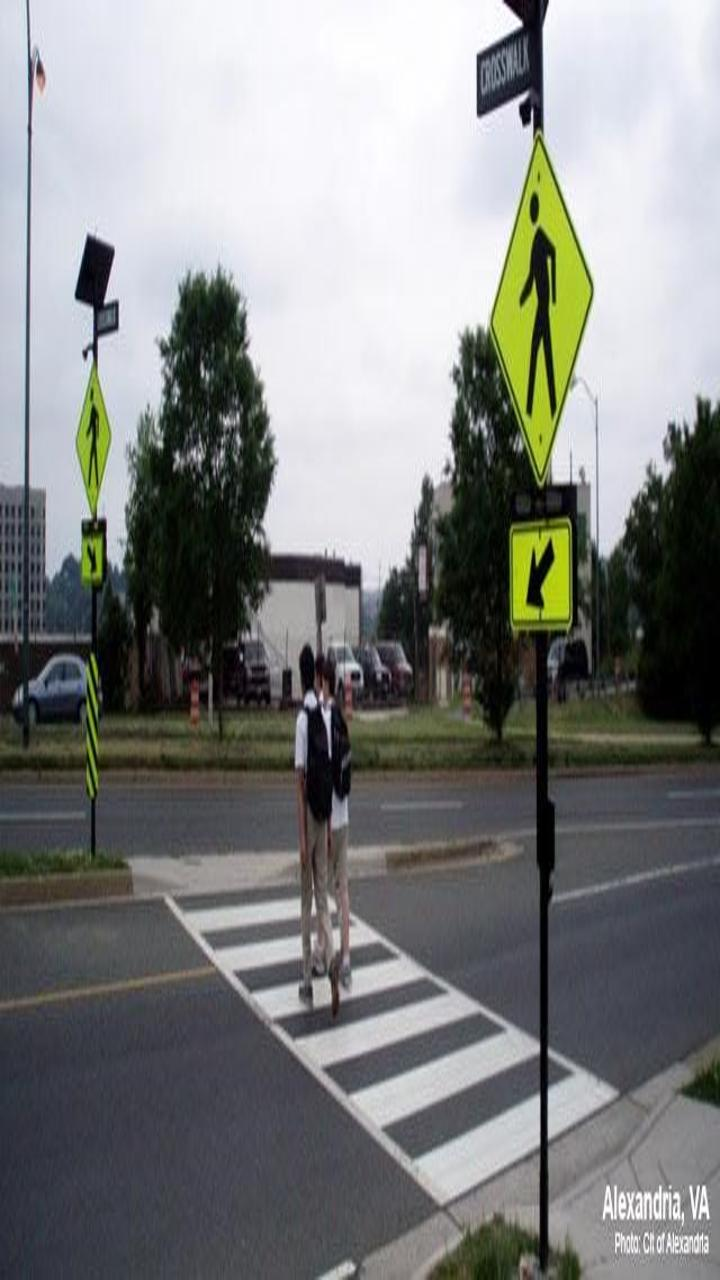Traffic sign: (444, 109, 631, 480), (476, 500, 586, 636), (62, 365, 142, 511), (60, 536, 122, 587)
pedestrian: (266, 643, 340, 1015), (323, 643, 377, 984)
vehicle: (6, 629, 104, 735)
